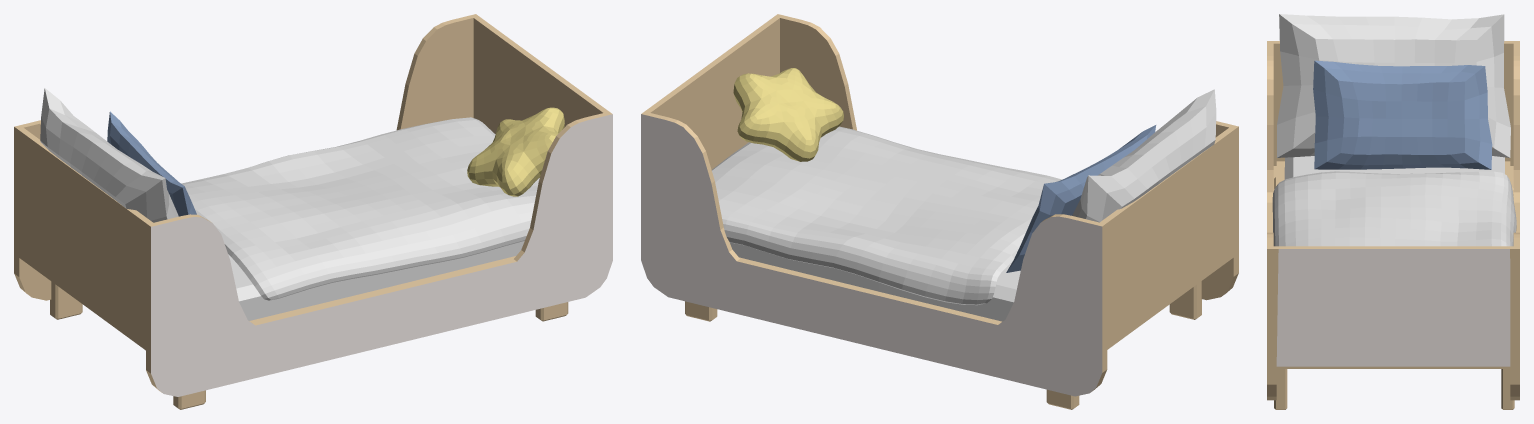
Rendered from Furn8_bed_color1.fbx.
3 views of the same model, side by side, from view 1: azimuth 30°, elevation 25°; view 2: azimuth 150°, elevation 25°; view 3: azimuth 270°, elevation 25° (orthographic). The views are drawn at different scales.
Parts seen in each view (by area): view 1: Plane.001; view 2: Plane.001; view 3: Plane.001.
Part boxes in pixels (x1,y1,x2,y2): Plane.001: (14,14,612,409); Plane.001: (641,14,1238,409); Plane.001: (1267,14,1519,409).
Bounding box in the file's own units: 362 × 175 × 185.
